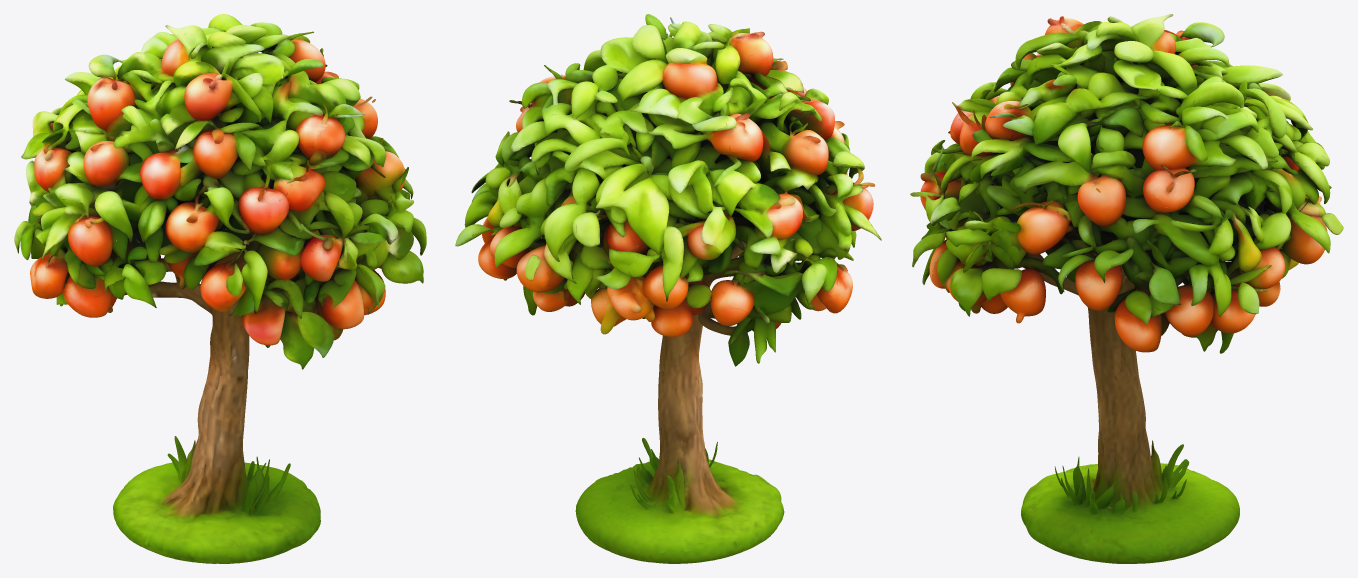
File: base_basic_shaded.fbx
The picture shows the model from 3 angles, left to right: view 1: azimuth 30°, elevation 25°; view 2: azimuth 150°, elevation 25°; view 3: azimuth 270°, elevation 25°; orthographic projection. The views are drawn at different scales.
Visible parts, largest first — view 1: model; view 2: model; view 3: model.
Part boxes in pixels (x1,y1,x2,y2): model: [14, 14, 426, 563]; model: [455, 14, 881, 563]; model: [910, 14, 1343, 563].
Bounding box in the file's own units: 150 × 189 × 148.
